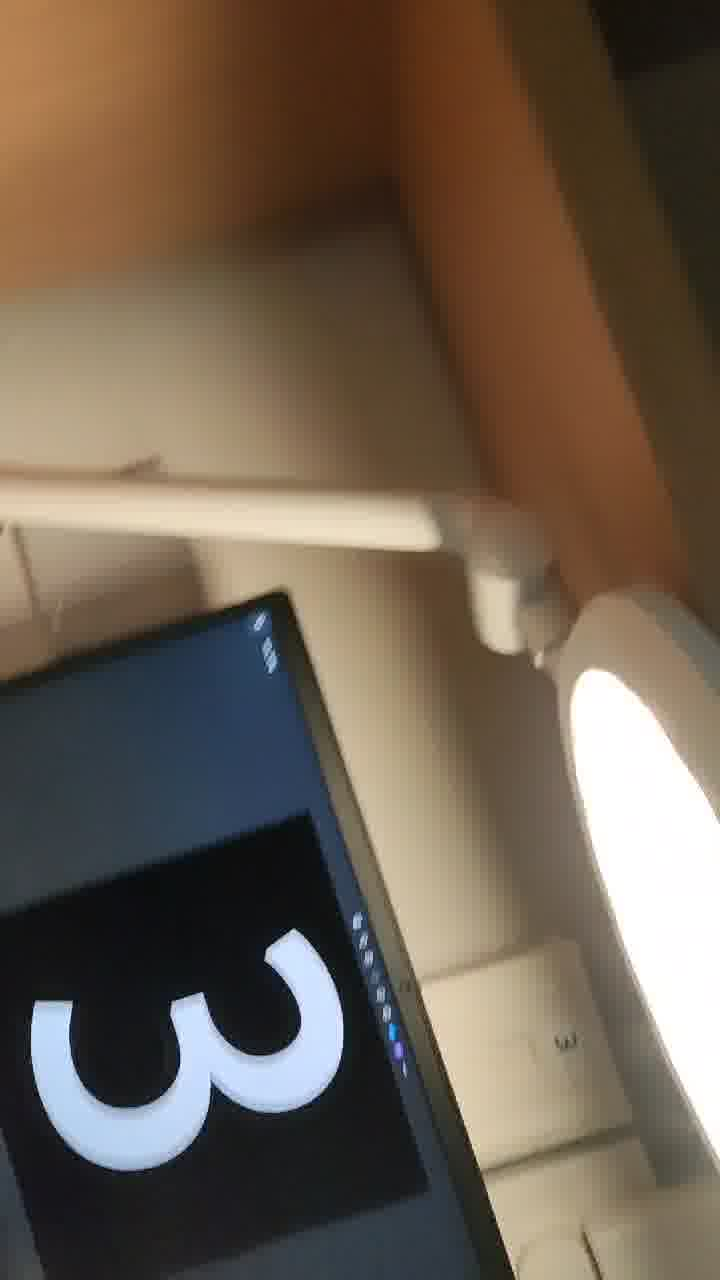three: (5, 883, 441, 1220)
